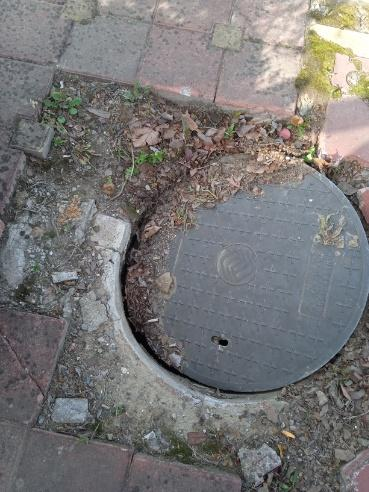wellcover: (118, 139, 369, 386)
